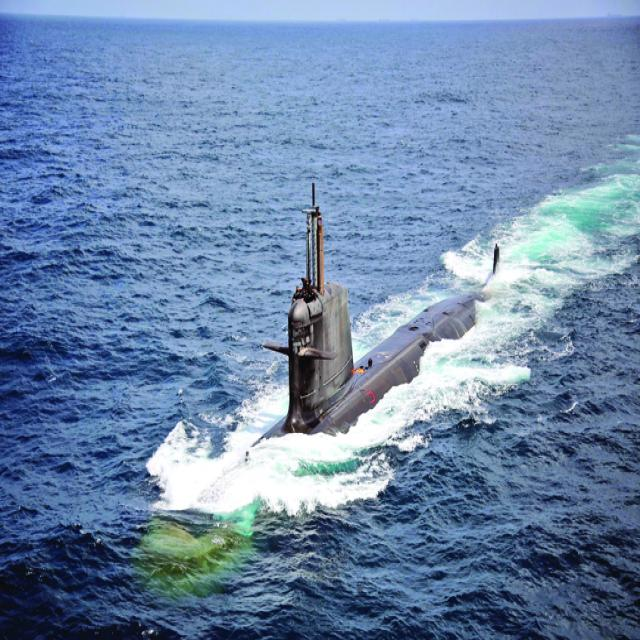Submarine-Arihant-Class-IND: (126, 197, 520, 566)
